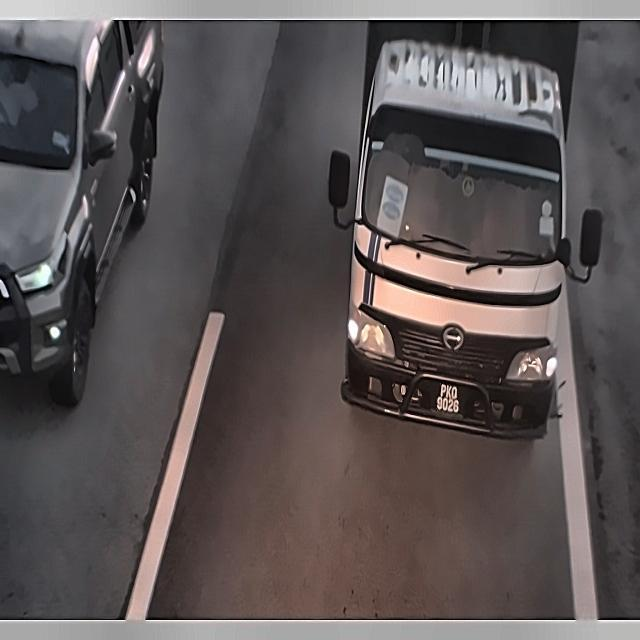car: (420, 373, 474, 422)
